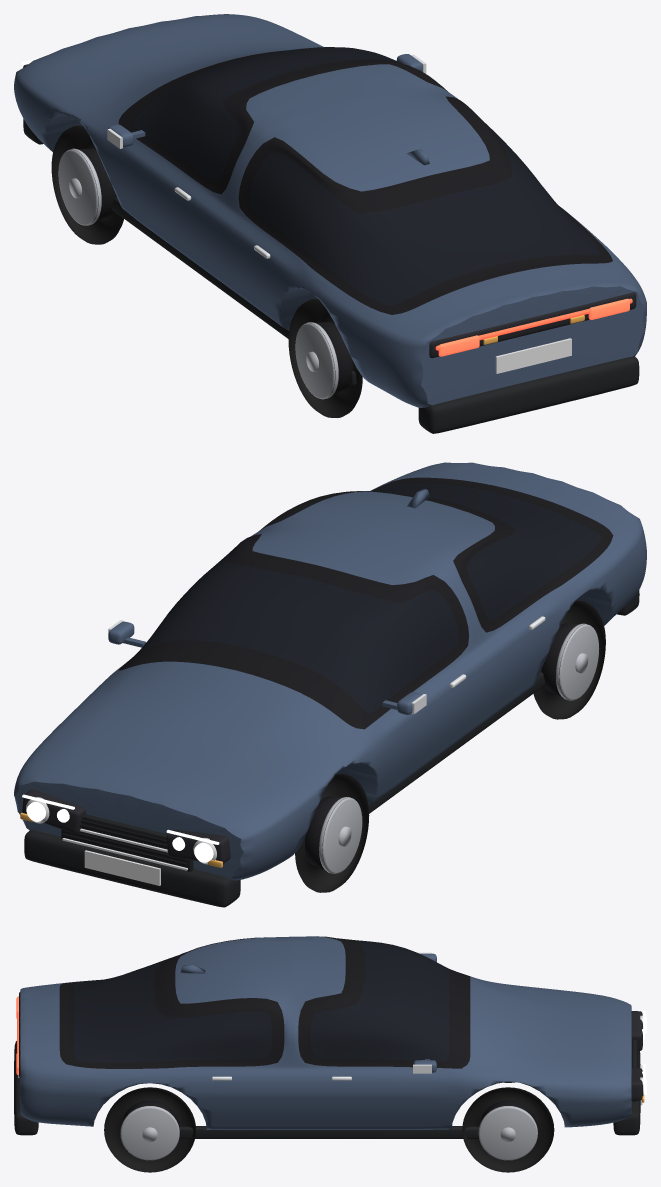
The model's file is auto2.glb.
3 renders of one model, top to bottom at view 1: azimuth 30°, elevation 25°; view 2: azimuth 150°, elevation 25°; view 3: azimuth 270°, elevation 25°, orthographic. The views are drawn at different scales.
Parts seen in each view (by area): view 1: Karosserie, Stossstange_H, Reifen.002, Felgenring.002, Felgenring, Reifen, RlGehaeuse, Schweller_L, Kennzeichen_H, Felgenbett.002, Felgenbett, Lichtband; view 2: Karosserie, Stossstange_V, Reifen, Felgenring, Felgenring.002, Reifen.002, Grill, Schweller_L, Kennzeichen_V, SwGehaeuse_L, SwGehaeuse_R, Felgenbett (+1 smaller); view 3: Karosserie, Reifen.001, Reifen.003, Schweller_R, Felgenring.003, Felgenring.001, Stossstange_H, Stossstange_V, SwGehaeuse_R, SwGehaeuse_L.
Part boxes in pixels (left/top/right/bottom): Karosserie: left=14, top=14, right=646, bottom=407; Stossstange_H: left=418, top=356, right=639, bottom=433; Reifen.002: left=288, top=299, right=362, bottom=417; Felgenring.002: left=295, top=322, right=338, bottom=399; Felgenring: left=58, top=148, right=101, bottom=225; Reifen: left=51, top=125, right=123, bottom=244; RlGehaeuse: left=429, top=292, right=636, bottom=358; Schweller_L: left=112, top=197, right=356, bottom=385; Kennzeichen_H: left=495, top=338, right=571, bottom=373; Felgenbett.002: left=303, top=322, right=352, bottom=399; Felgenbett: left=65, top=148, right=115, bottom=225; Lichtband: left=435, top=298, right=632, bottom=350; Karosserie: left=14, top=462, right=646, bottom=880; Stossstange_V: left=24, top=830, right=240, bottom=907; Reifen: left=295, top=774, right=369, bottom=892; Felgenring: left=319, top=797, right=362, bottom=873; Felgenring.002: left=556, top=623, right=599, bottom=700; Reifen.002: left=533, top=600, right=605, bottom=719; Grill: left=61, top=814, right=193, bottom=871; Schweller_L: left=368, top=672, right=545, bottom=813; Kennzeichen_V: left=84, top=850, right=160, bottom=885; SwGehaeuse_L: left=166, top=829, right=230, bottom=863; SwGehaeuse_R: left=22, top=789, right=85, bottom=833; Felgenbett: left=305, top=796, right=355, bottom=873; Karosserie: left=20, top=936, right=631, bottom=1129; Reifen.001: left=462, top=1087, right=554, bottom=1172; Reifen.003: left=104, top=1087, right=195, bottom=1172; Schweller_R: left=179, top=1126, right=479, bottom=1138; Felgenring.003: left=120, top=1106, right=179, bottom=1160; Felgenring.001: left=478, top=1106, right=537, bottom=1160; Stossstange_H: left=14, top=1041, right=38, bottom=1135; Stossstange_V: left=613, top=1051, right=640, bottom=1135; SwGehaeuse_R: left=631, top=1068, right=642, bottom=1100; SwGehaeuse_L: left=631, top=1011, right=642, bottom=1050.
Size of the model in its own units: 2.12 by 1.42 by 5.02.
